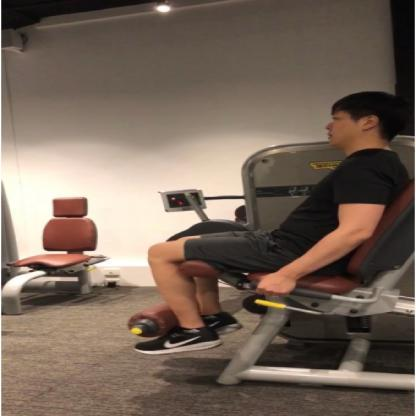leg extension: (105, 81, 416, 416)
